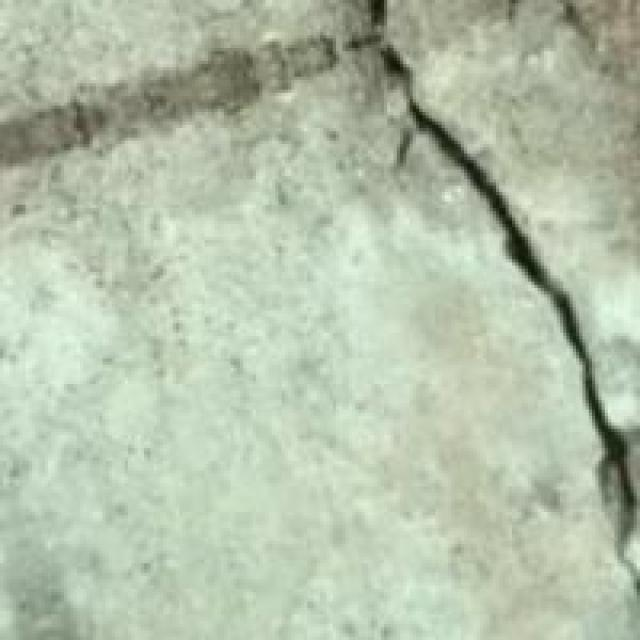Crack: (310, 0, 637, 547)
